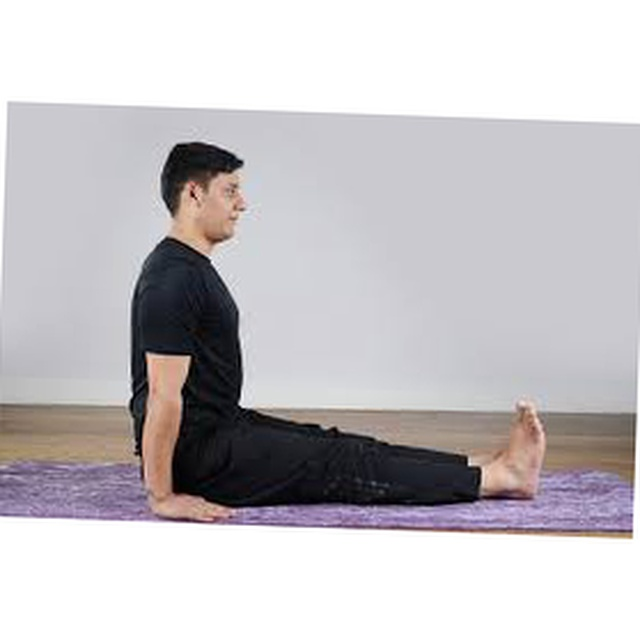Staff_Pose: (129, 141, 547, 523)
